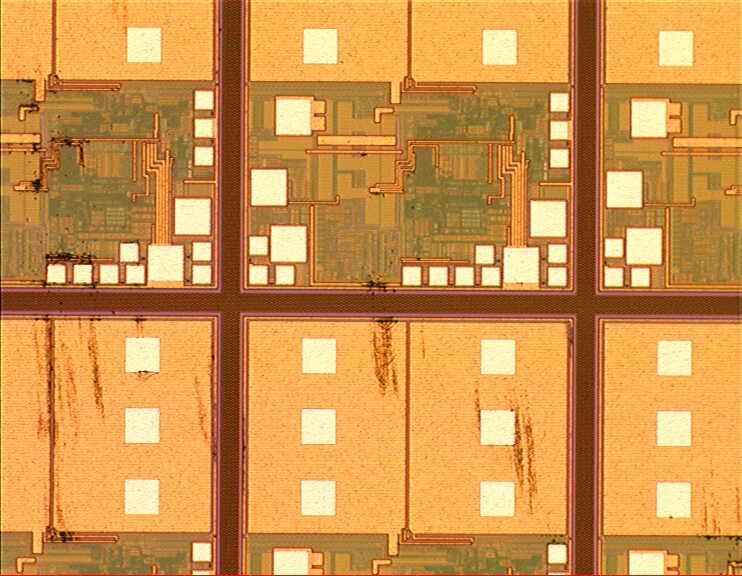SCRATCH: (14, 66, 571, 561)
